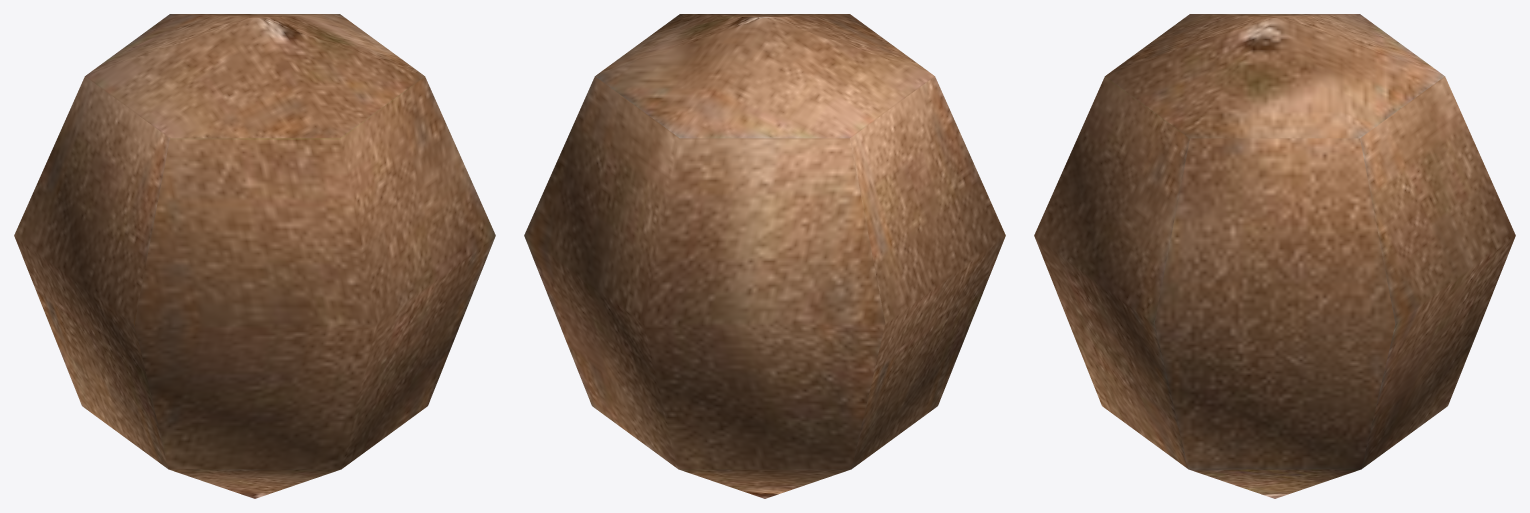
The model's file is Kiwi.glb.
The picture shows the model from 3 angles, left to right: view 1: azimuth 30°, elevation 25°; view 2: azimuth 150°, elevation 25°; view 3: azimuth 270°, elevation 25°; orthographic projection.
Visible parts, largest first — view 1: Kiwi; view 2: Kiwi; view 3: Kiwi.
Part boxes in pixels (<box>): Kiwi: <box>14,14,495,498</box>; Kiwi: <box>524,14,1005,498</box>; Kiwi: <box>1034,14,1515,498</box>.
Bounding box in the file's own units: 0.0992 × 0.1261 × 0.1145.
Materials: 1 (1 with a texture image).
